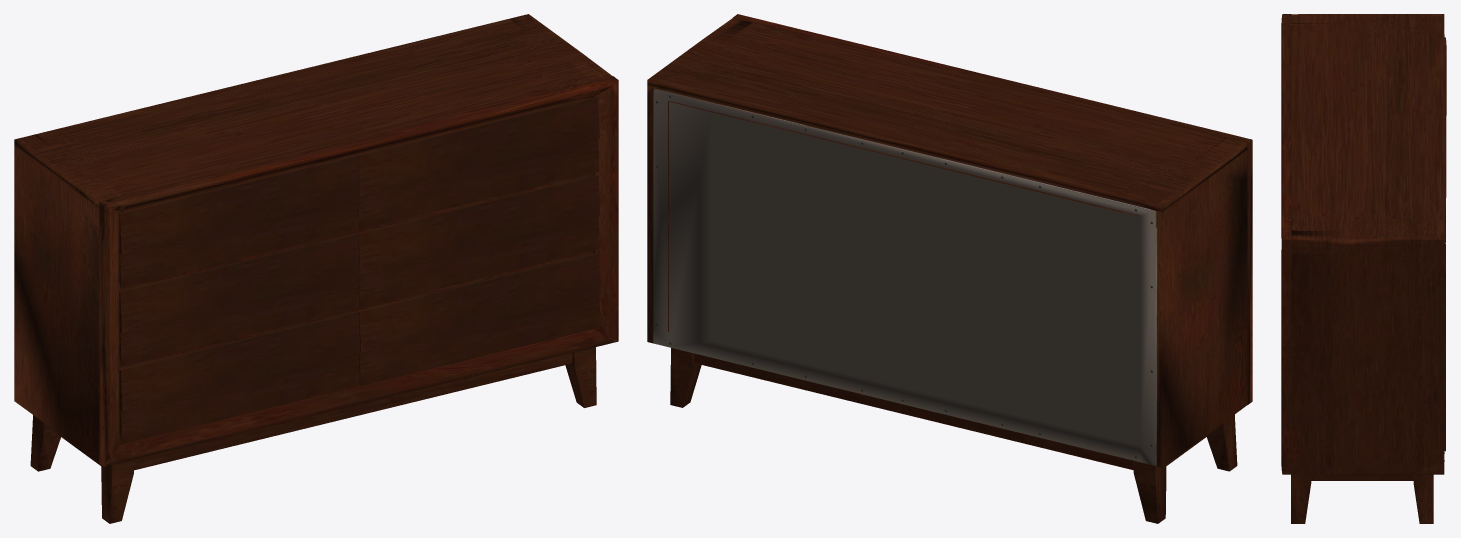
The picture shows the model from 3 angles, left to right: view 1: azimuth 30°, elevation 25°; view 2: azimuth 150°, elevation 25°; view 3: azimuth 270°, elevation 25°; orthographic projection. The views are drawn at different scales.
Visible parts, largest first — view 1: RootNode; view 2: RootNode; view 3: RootNode.
Part boxes in pixels (x1,y1,x2,y2): RootNode: (14,14,618,523); RootNode: (647,14,1252,523); RootNode: (1281,14,1446,523).
Size of the model in its own units: 1.61 by 0.9709 by 0.499.
1 material, 1 textured.
